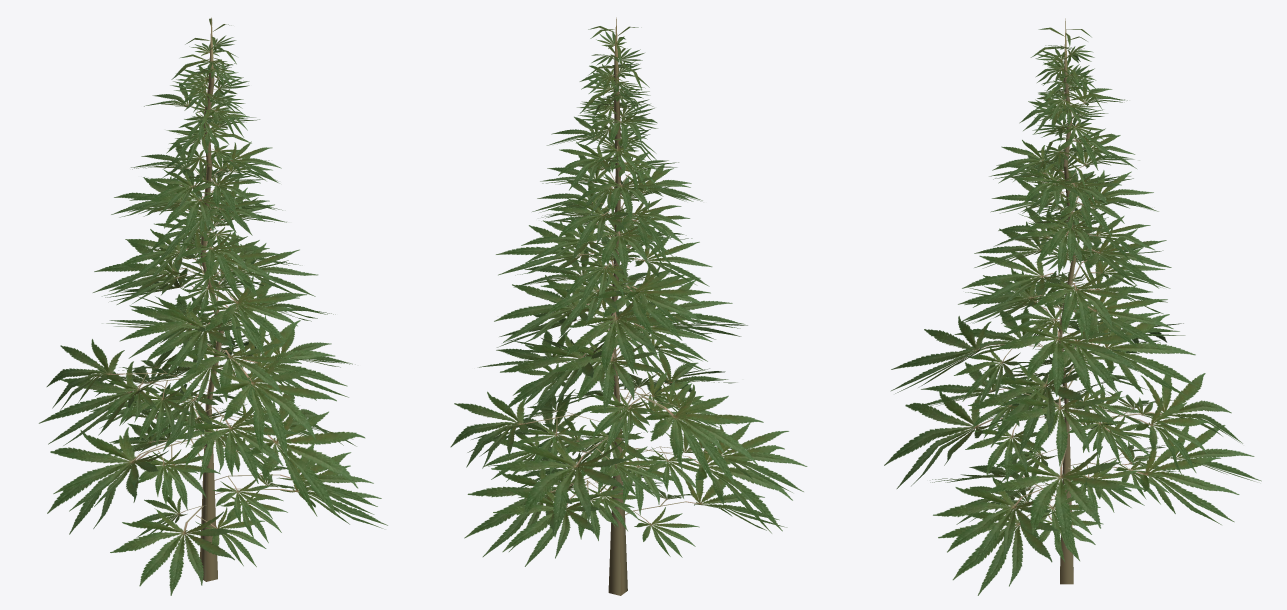
File: crop-hemp.glb
3 renders of one model, left to right at view 1: azimuth 30°, elevation 25°; view 2: azimuth 150°, elevation 25°; view 3: azimuth 270°, elevation 25°, orthographic. The views are drawn at different scales.
Parts seen in each view (by area): view 1: Cannabis Plant; view 2: Cannabis Plant; view 3: Cannabis Plant.
Boxes of the visible parts, bbox=[...] form: Cannabis Plant: bbox=[39, 17, 387, 595]; Cannabis Plant: bbox=[450, 17, 807, 595]; Cannabis Plant: bbox=[884, 18, 1261, 595].
Bounding box in the file's own units: 1.22 × 1.88 × 1.24.
Materials: 1 (1 with a texture image).
